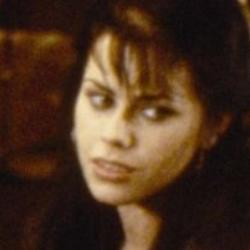face: (35, 6, 246, 231)
